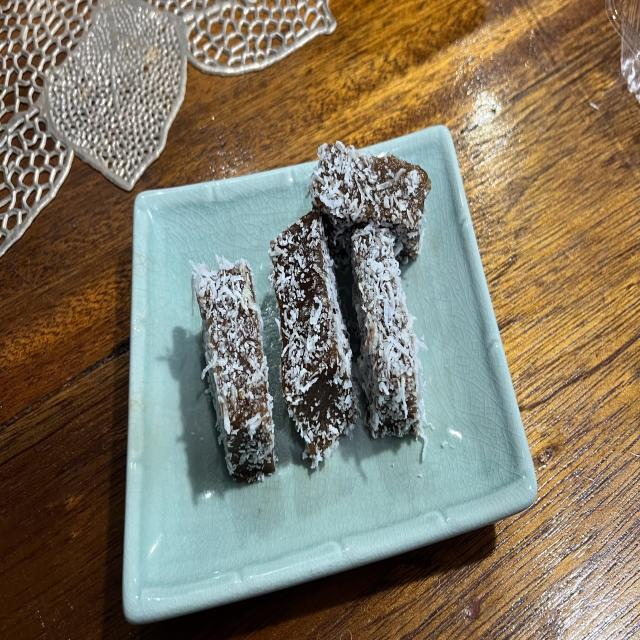kaswi: (269, 211, 359, 469), (191, 256, 275, 482), (351, 224, 425, 438), (309, 140, 431, 267)
